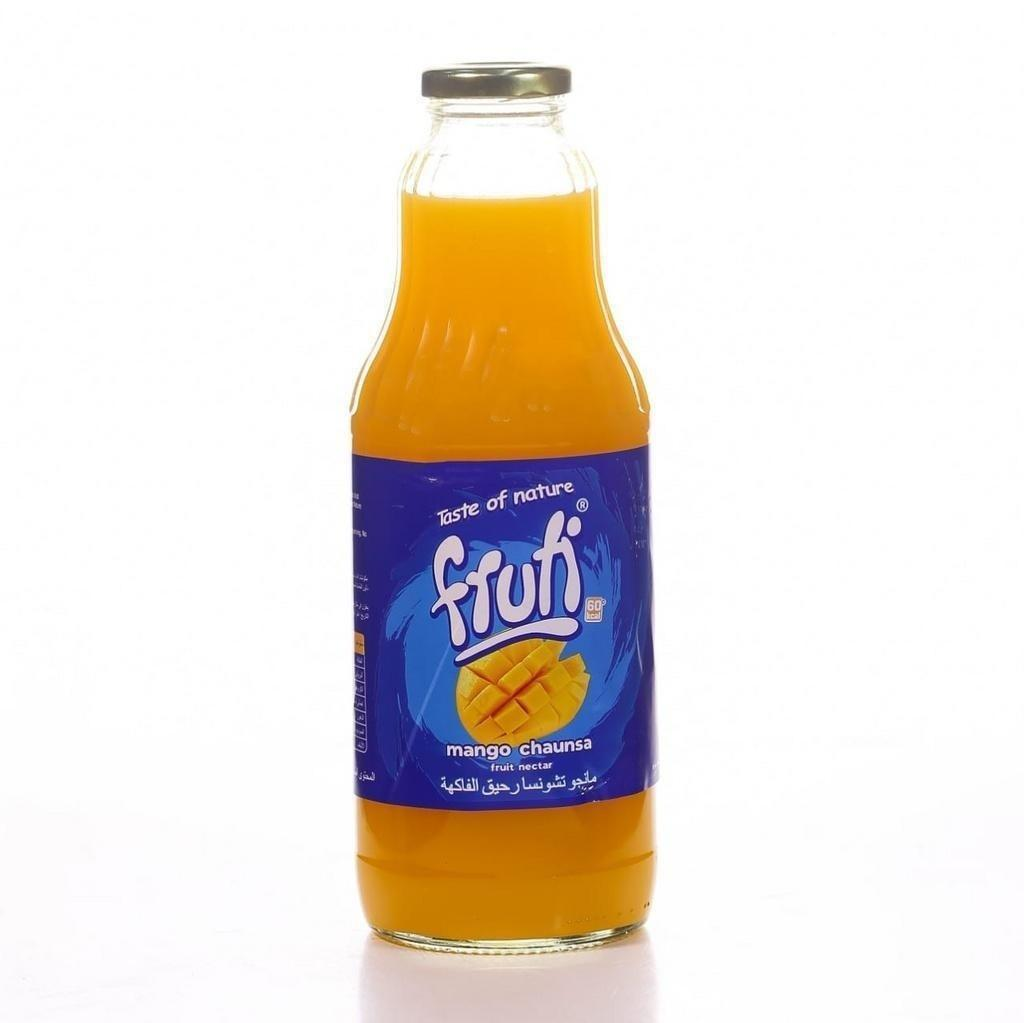bottle-glass: (342, 52, 667, 961)
